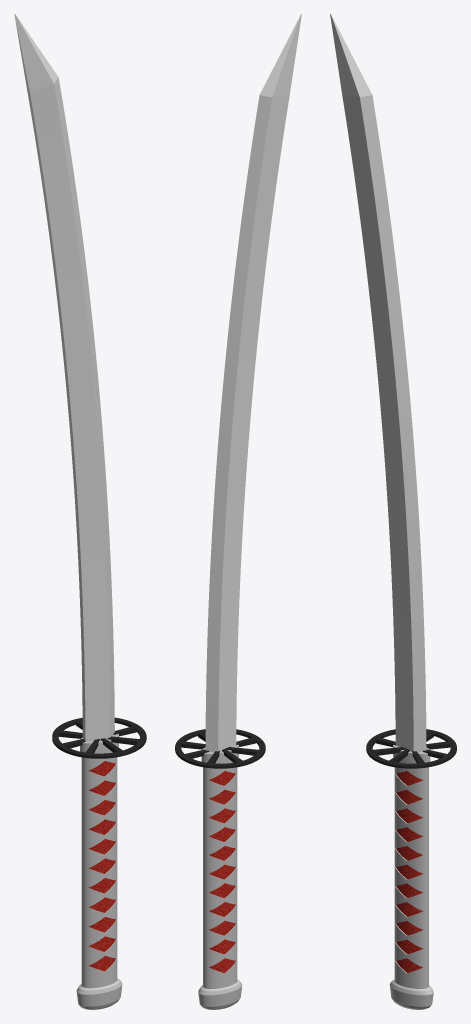
File: unityKatana.fbx
3 views of the same model, side by side, from view 1: azimuth 30°, elevation 25°; view 2: azimuth 210°, elevation 25°; view 3: azimuth 330°, elevation 25° (orthographic). The views are drawn at different scales.
Visible parts, largest first — view 1: Cylinder.001; view 2: Cylinder.001; view 3: Cylinder.001.
Boxes of the visible parts, left/top/right/bottom form: Cylinder.001: left=14, top=14, right=146, bottom=1009; Cylinder.001: left=175, top=14, right=301, bottom=1009; Cylinder.001: left=330, top=14, right=456, bottom=1009.
Bounding box in the file's own units: 221 × 1694 × 143.
